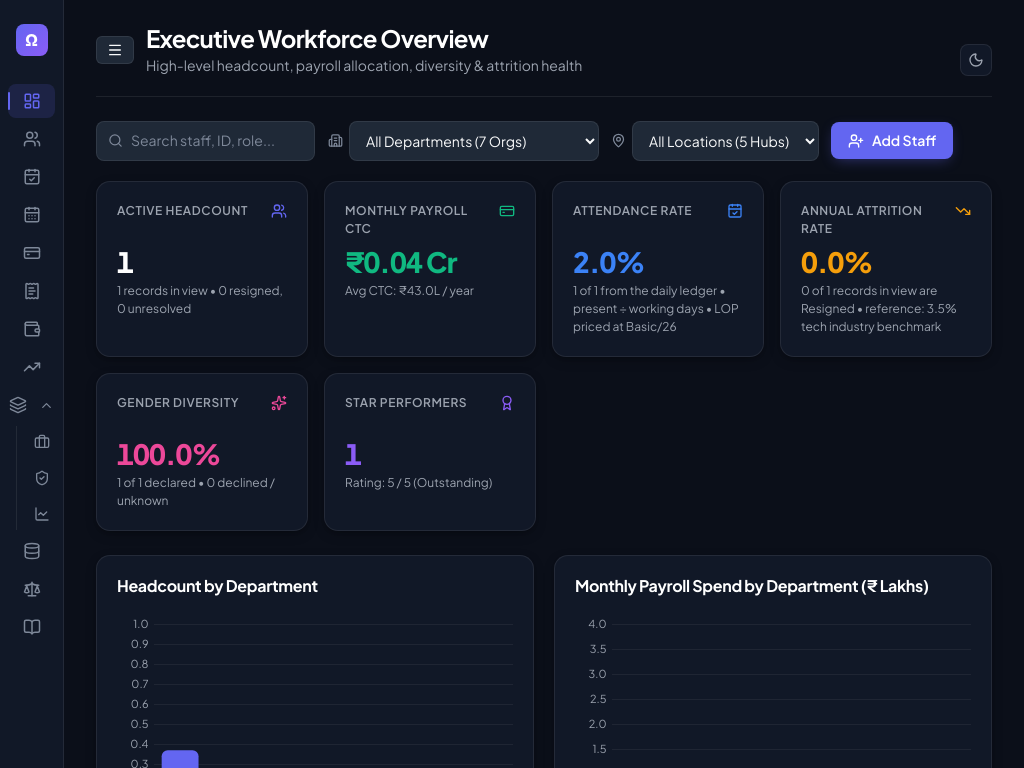
Test: Attendance integration — payroll and overview rollup › payroll and overview use the current-month rollup where records exist
The width and height of the screenshot is (1024, 768).
Later steps or results of the test are not shown.
What coordinates should you click on to do the following:
click the button named "Payroll & Compensation"
I would click on:
 (32, 253)
Its box is [8, 236, 55, 270].
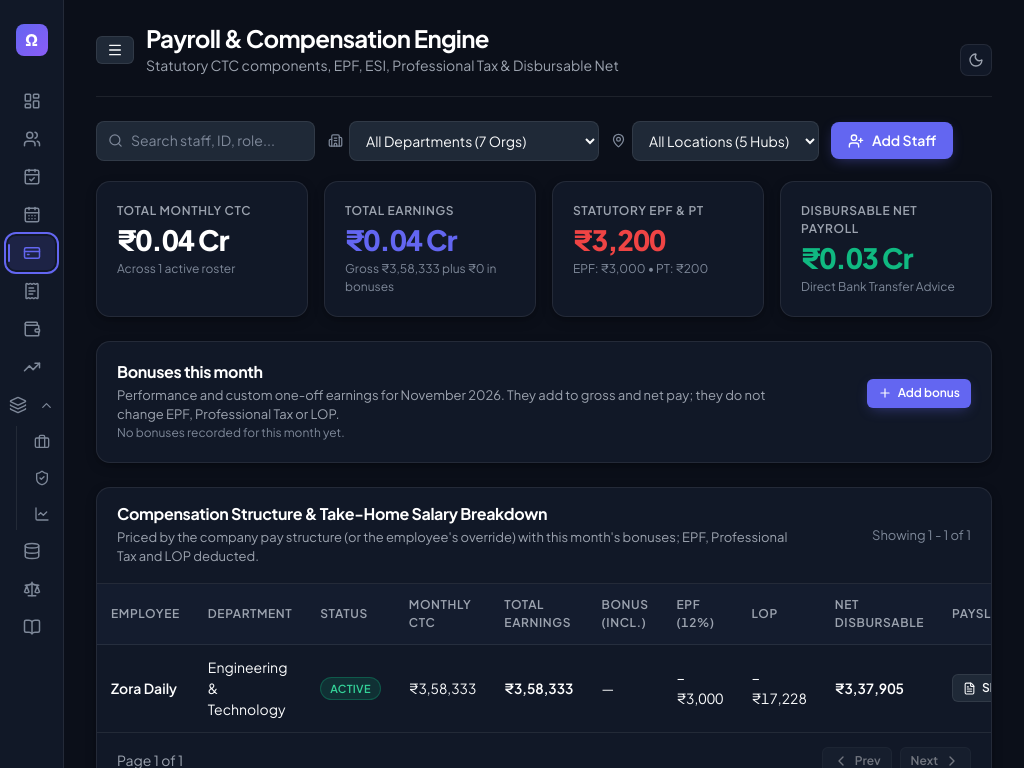
What coordinates should you click on to do the following:
click the button "Slip"
I would click on:
 (983, 688)
Its box is [952, 674, 1015, 702].
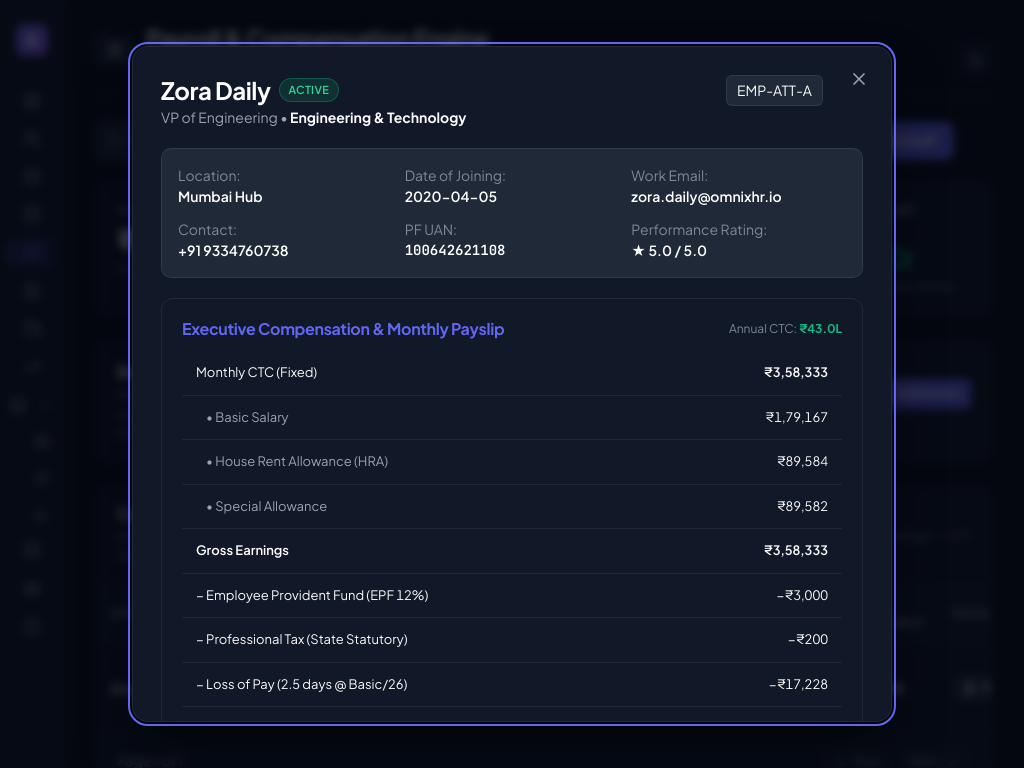
Expected: the dialog "Zora Daily" shows "Loss of Pay (2.5 days @ Basic/26)"
